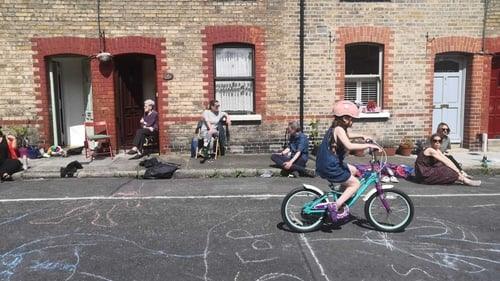Person: (310, 95, 367, 214)
